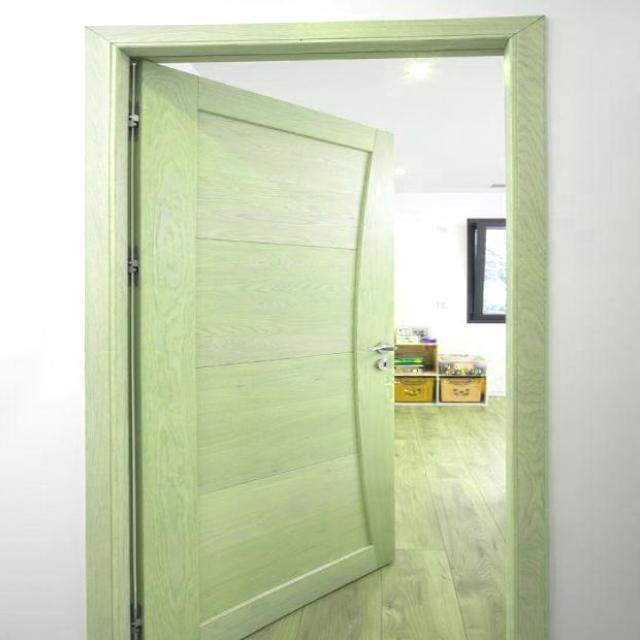door: (128, 57, 396, 638)
